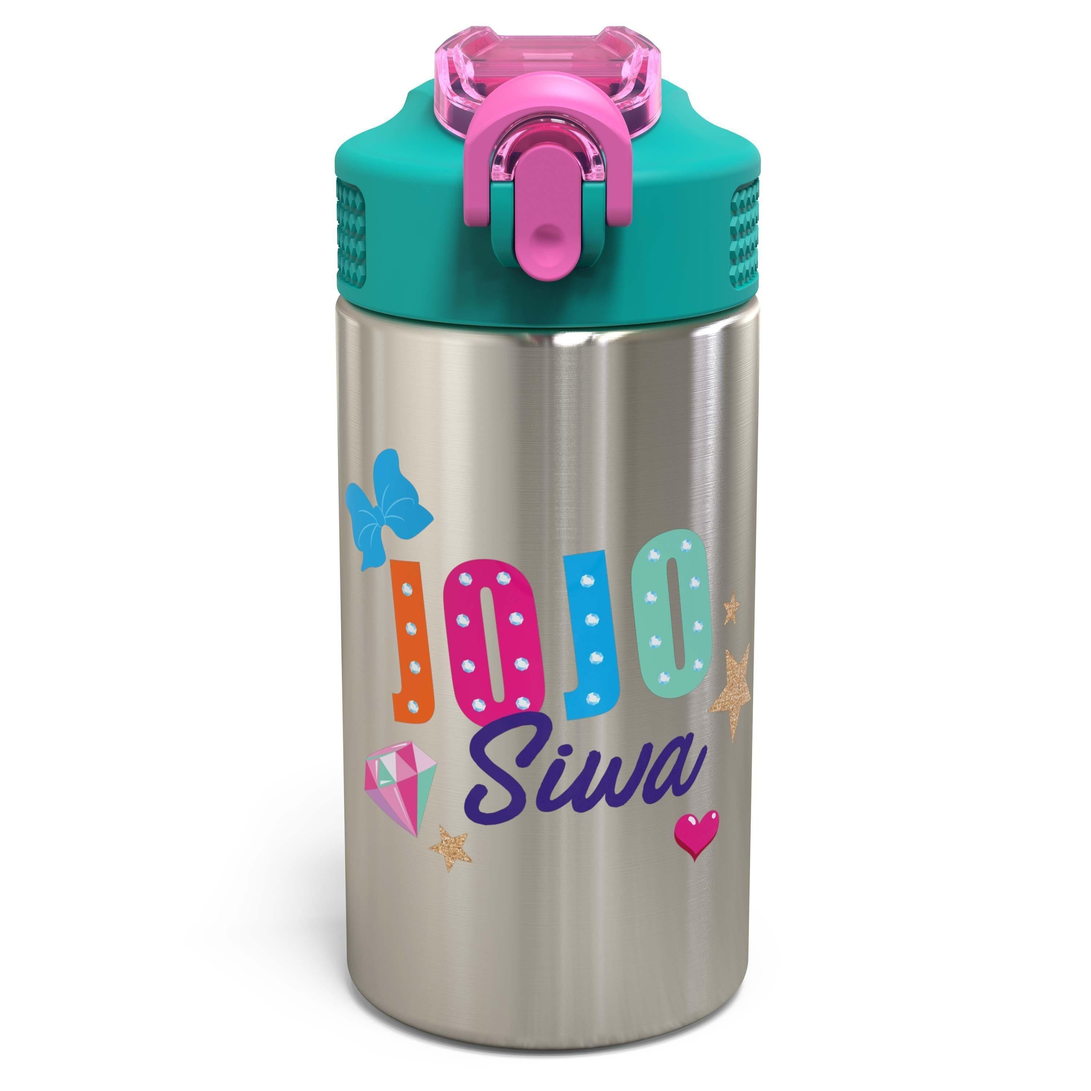gym bottle: (328, 14, 768, 1065)
